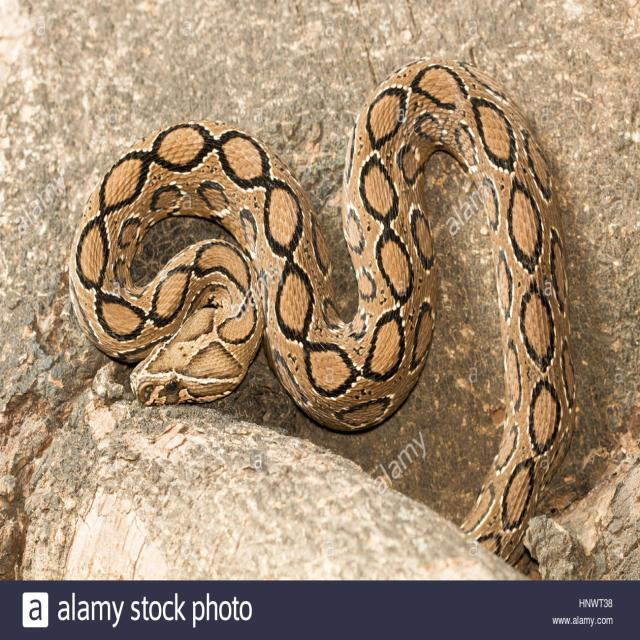Snake: (67, 54, 576, 574)
